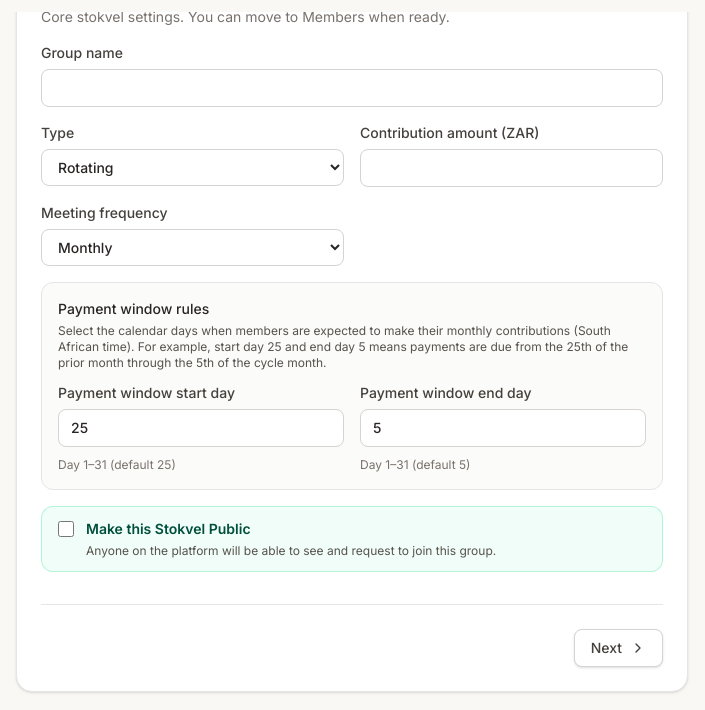
Test: CreateStokvelWizard › Details Validation › shows error if submitting empty group name
(page scrolled)
Step 1. Click the button "Next" → (618, 648), box [574, 629, 663, 667]
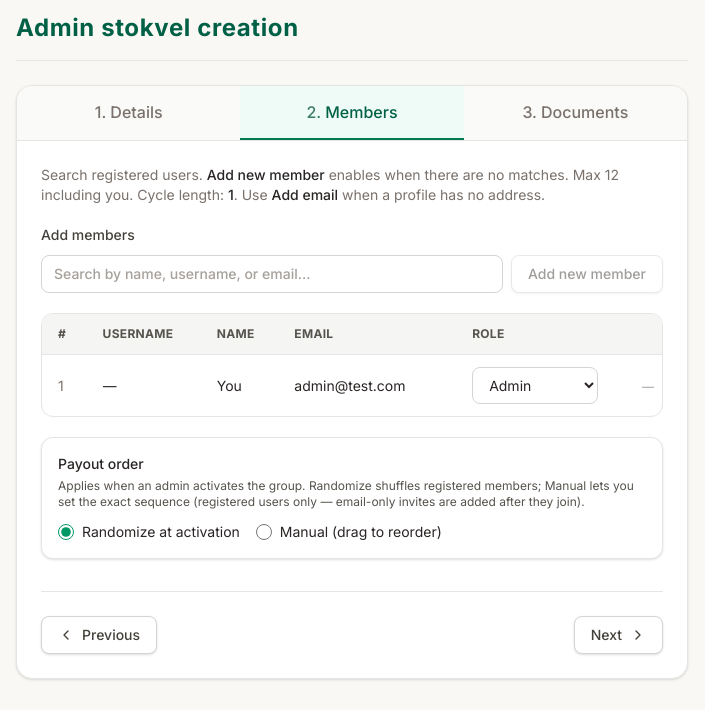
Step 2. Click the button "Next" → (618, 635), box [574, 616, 663, 654]
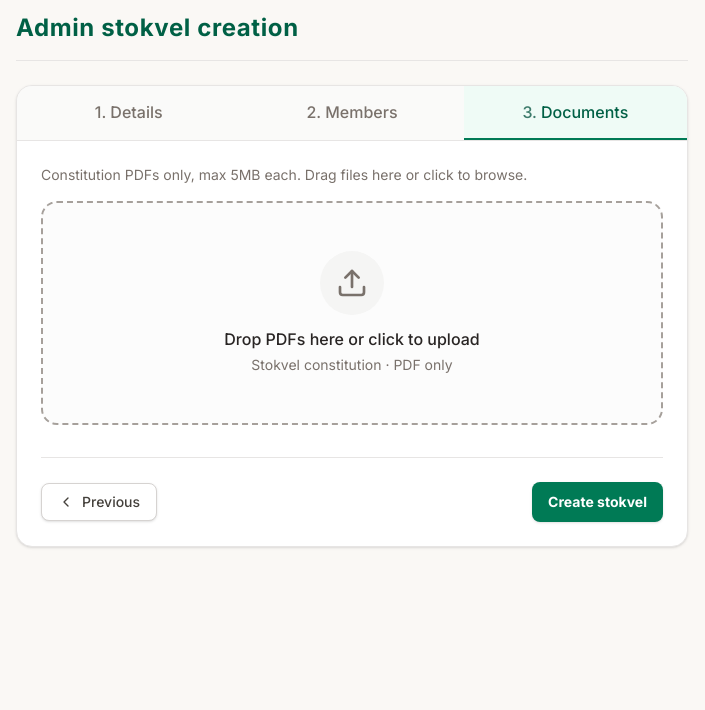
Step 3. Click the button "Create stokvel" → (598, 502), box [532, 482, 663, 522]
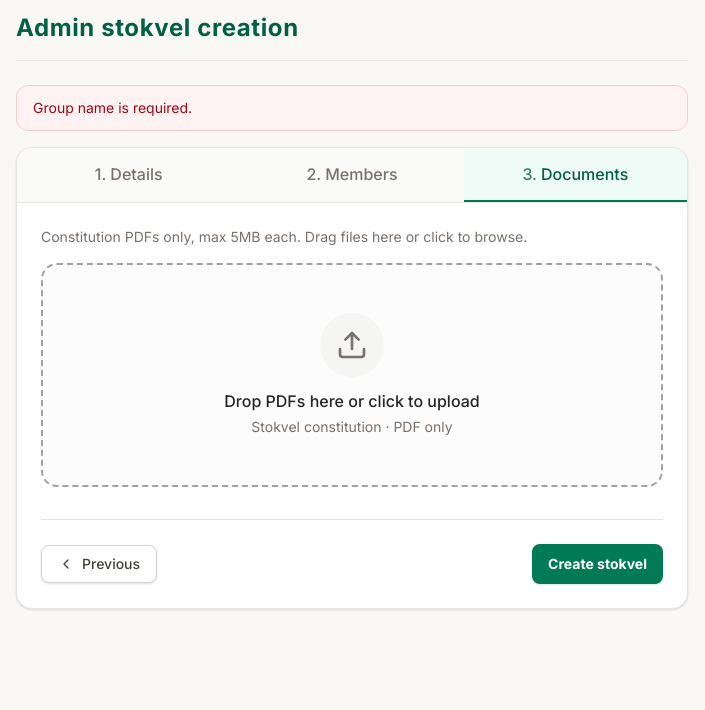
Result: the text "Group name is required." is shown at [16, 85, 688, 131]
